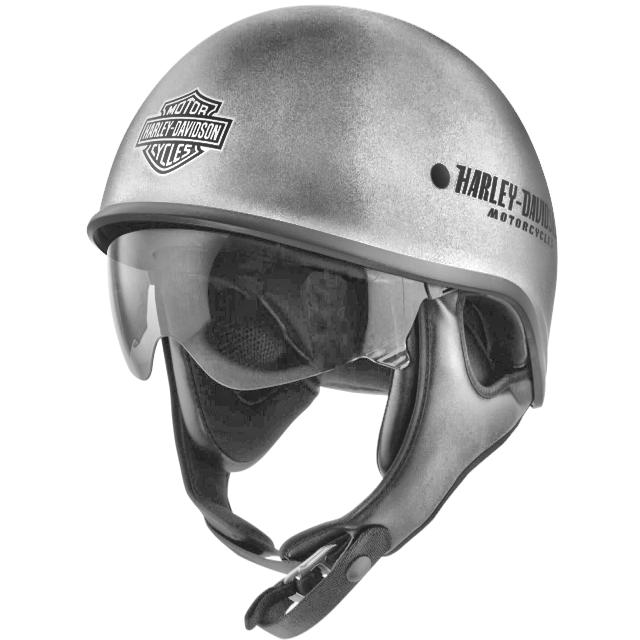Helmet: (63, 0, 586, 640)
